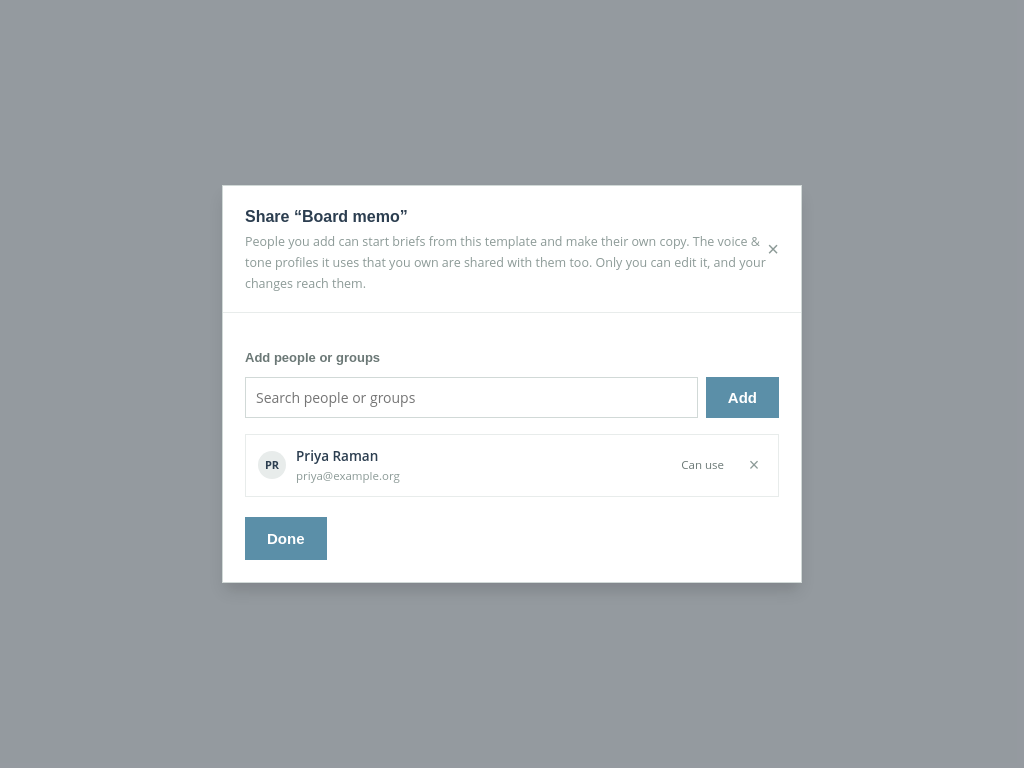
Test: sharing a template or voice › picking a group from the suggestions shares with it straight away
Expected: the text "Priya Raman" is shown, [296,447,378,465]
Type "OEV" into the dropdown with placeholder "Search people or groups" at (471, 397), box [245,377,698,418]
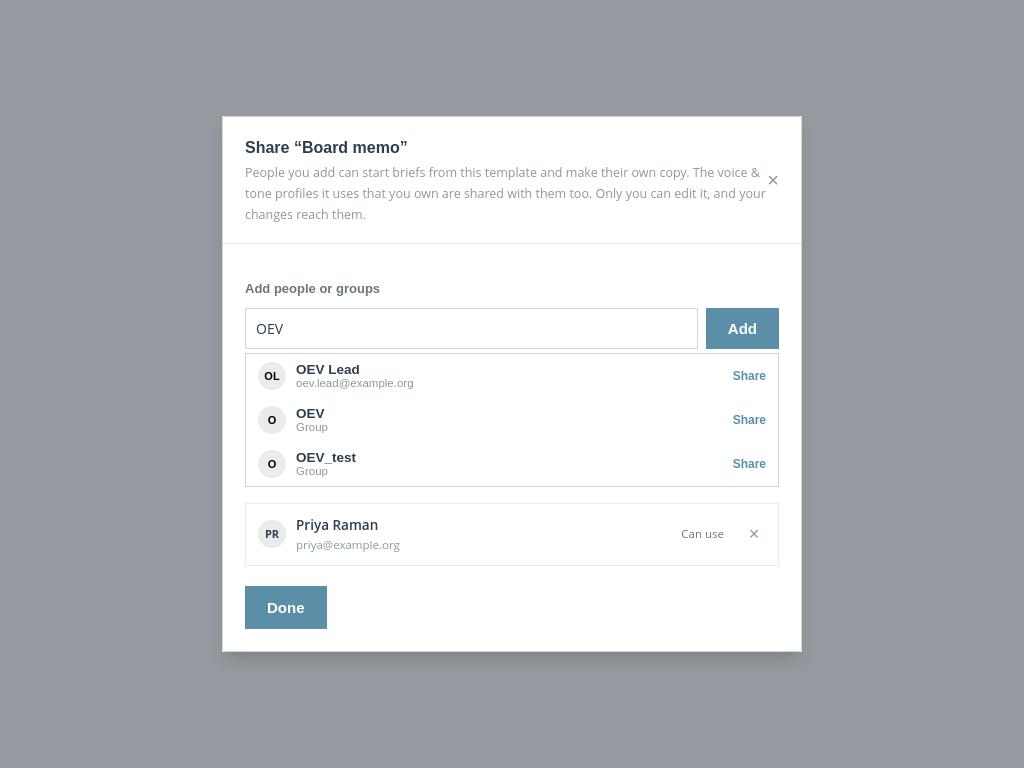
Click the option "O OEV_test Group Share" at (326, 458), box [246,442,778,486]
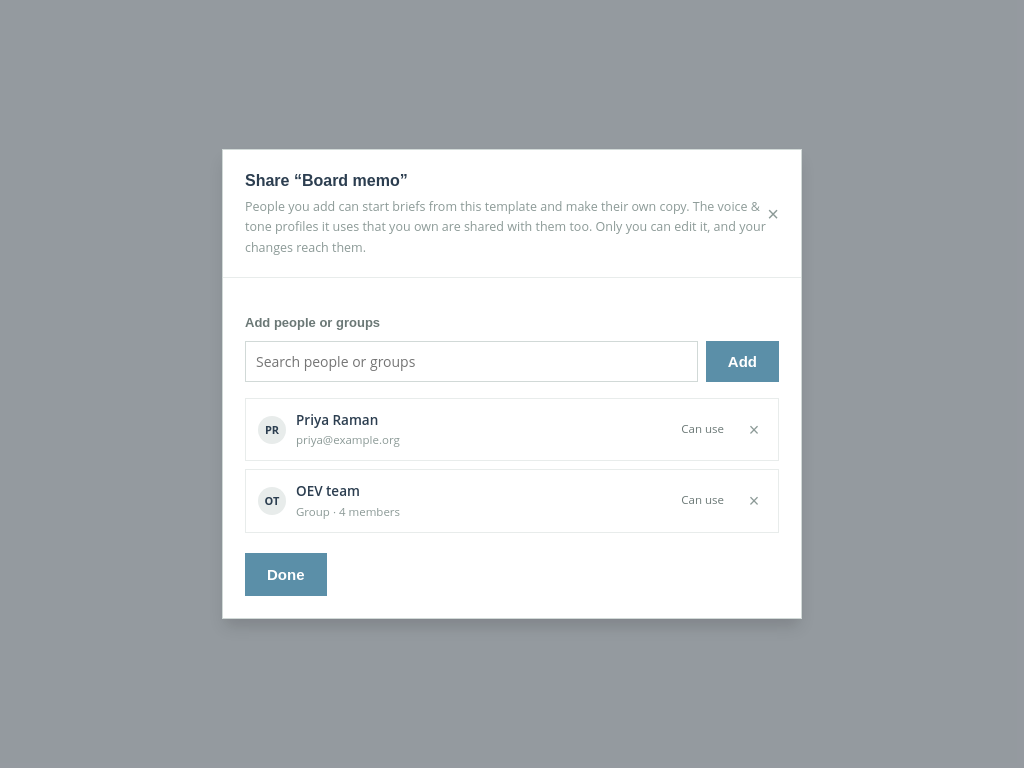
Now the text "OEV team" is shown, box [296,482,360,500]
Now the list is gone
Now the dropdown with placeholder "Search people or groups" is empty, box [245,341,698,382]
